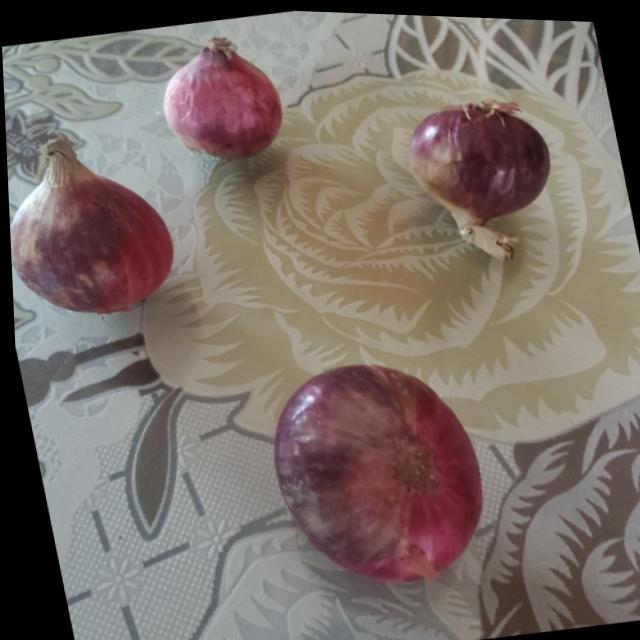onion: (252, 341, 495, 594), (5, 136, 183, 324), (395, 87, 556, 231), (151, 26, 287, 166)
